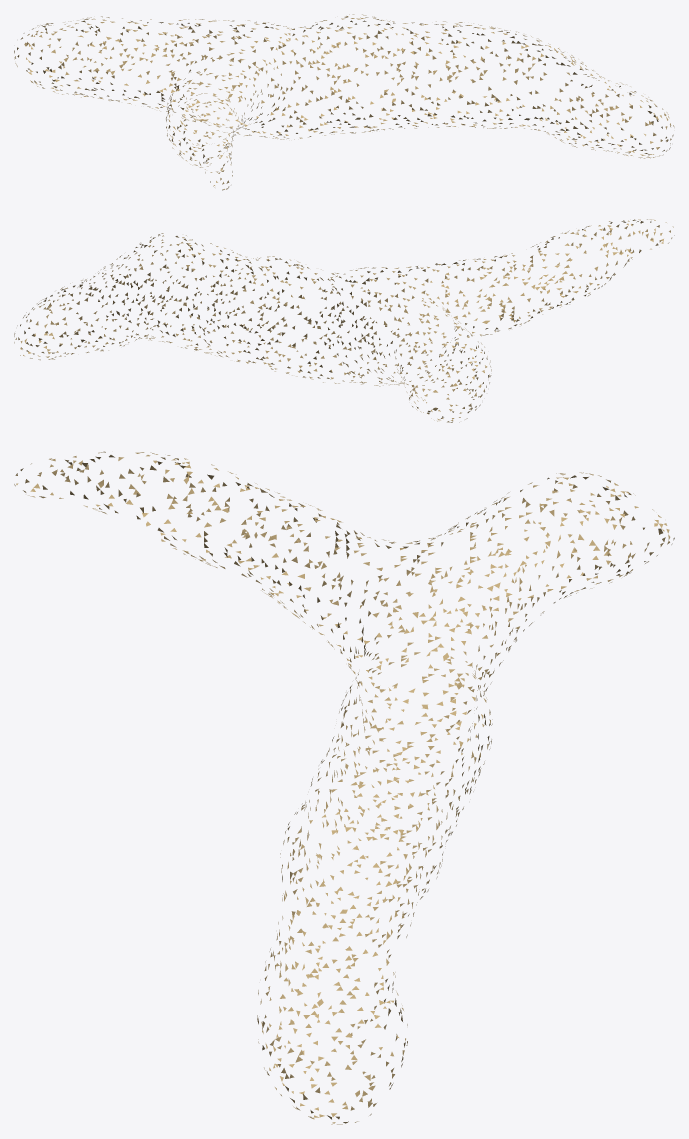
File: morph_007.glb
3 views of the same model, one above another, from view 1: azimuth 30°, elevation 25°; view 2: azimuth 150°, elevation 25°; view 3: azimuth 270°, elevation 25° (orthographic). The views are drawn at different scales.
Bounding box in the file's own units: 102 × 36.46 × 71.18.
